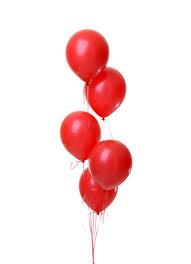red: (64, 28, 109, 82), (85, 68, 127, 120), (60, 111, 100, 162), (92, 140, 132, 190), (79, 167, 119, 214)
